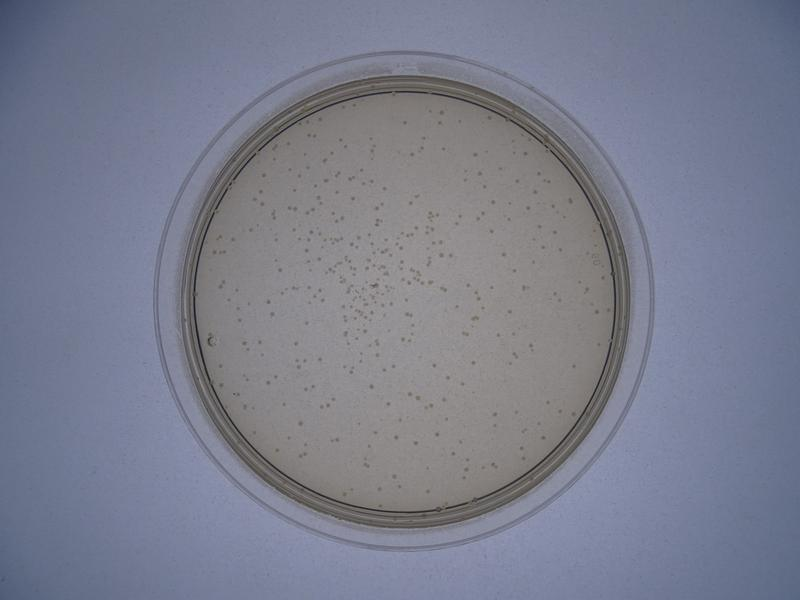colony: (294, 416, 305, 427), (380, 182, 390, 193), (470, 356, 478, 369), (490, 409, 501, 418), (412, 437, 421, 447), (256, 336, 264, 347), (505, 307, 514, 316), (400, 119, 409, 127), (366, 384, 375, 392), (433, 430, 441, 439), (500, 249, 507, 259), (430, 361, 437, 371), (440, 145, 448, 153), (570, 361, 578, 369), (291, 340, 300, 347), (275, 268, 285, 273), (487, 228, 494, 235), (402, 296, 408, 303)
